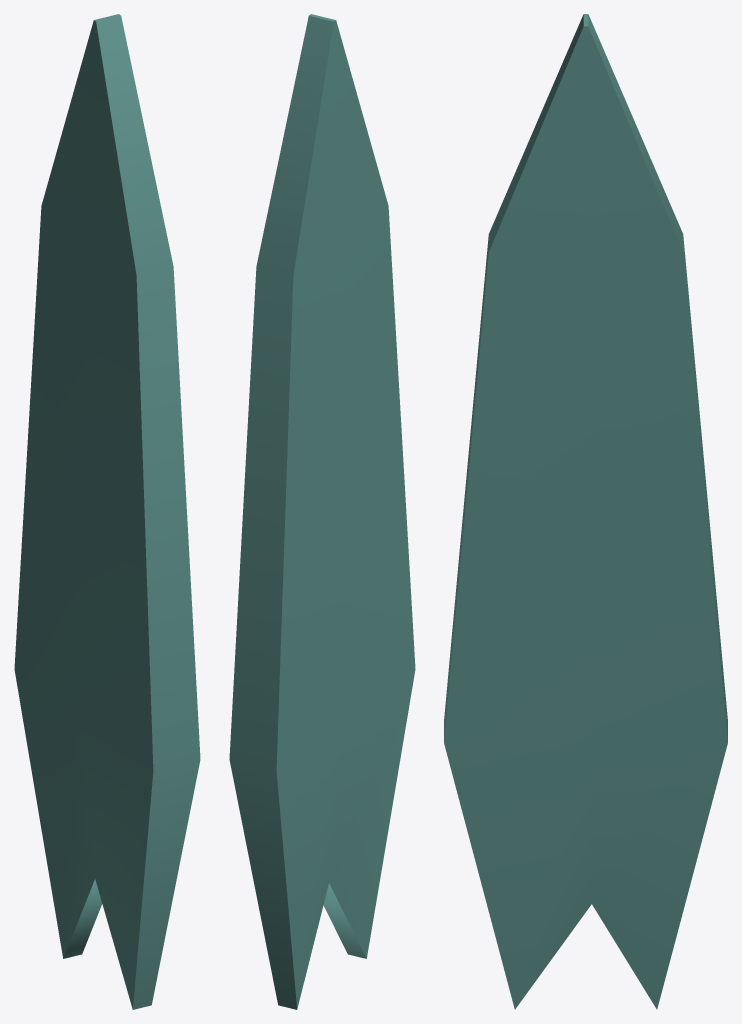
The model's file is GrassBlade_A.fbx.
3 renders of one model, left to right at view 1: azimuth 30°, elevation 25°; view 2: azimuth 150°, elevation 25°; view 3: azimuth 270°, elevation 25°, orthographic. The views are drawn at different scales.
Visible parts, largest first — view 1: Blade_B; view 2: Blade_B; view 3: Blade_B.
Part boxes in pixels (left/top/right/bottom): Blade_B: left=14, top=14, right=200, bottom=1009; Blade_B: left=229, top=14, right=415, bottom=1009; Blade_B: left=444, top=14, right=727, bottom=1009.
Size of the model in its own units: 0.3384 by 6.62 by 1.73.
